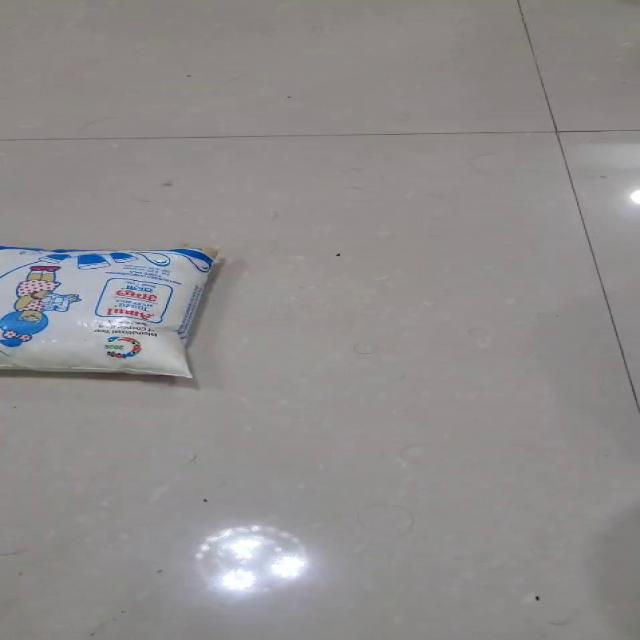plastic: (0, 244, 218, 379)
